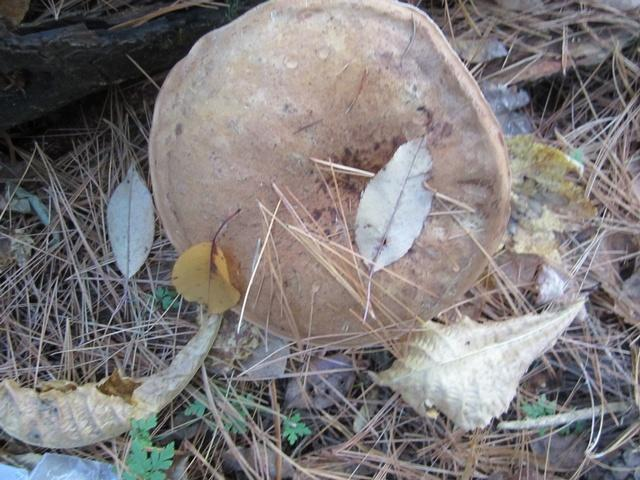poisonous_mushroom: (146, 0, 513, 352)
